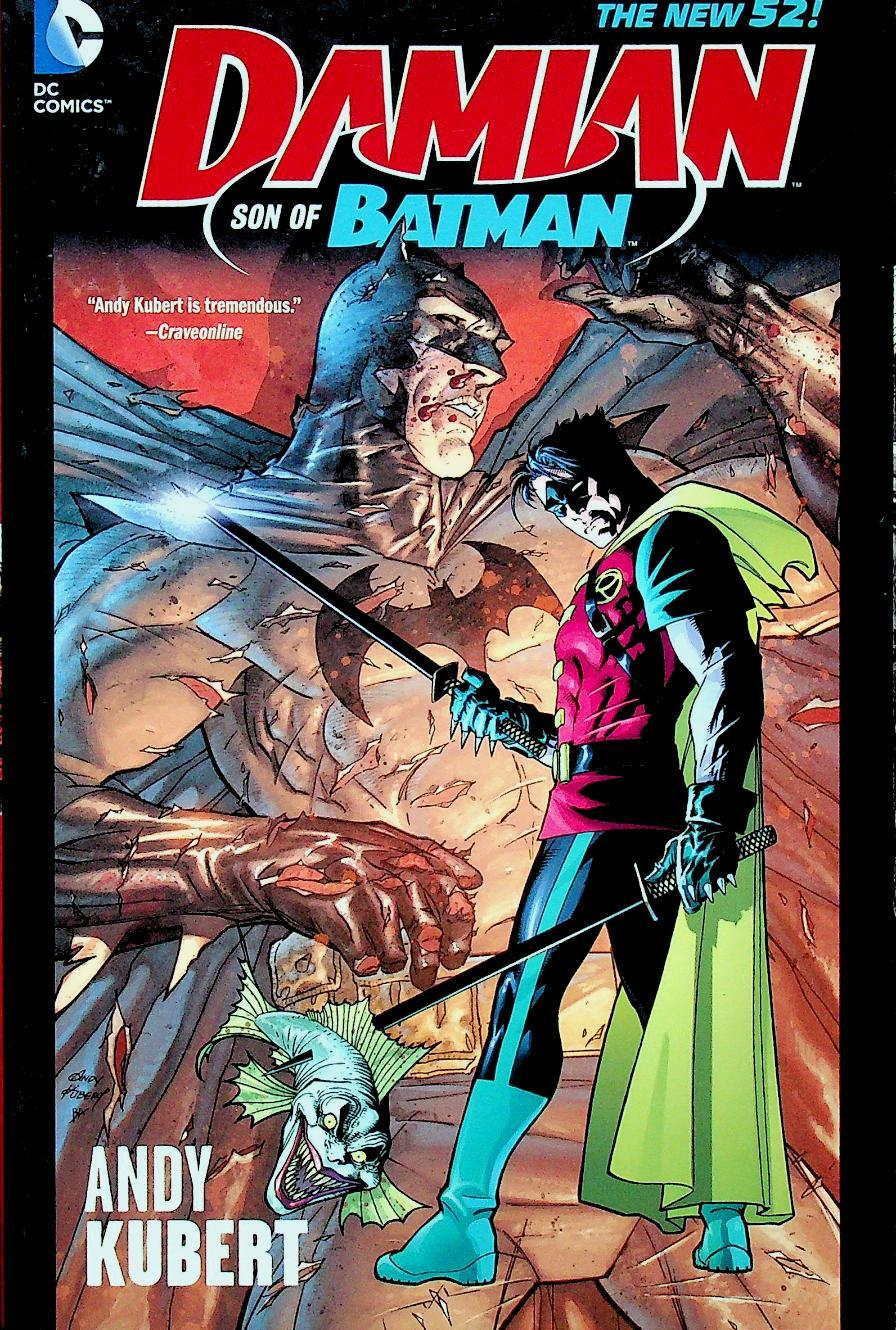comic: (4, 0, 871, 1329)
